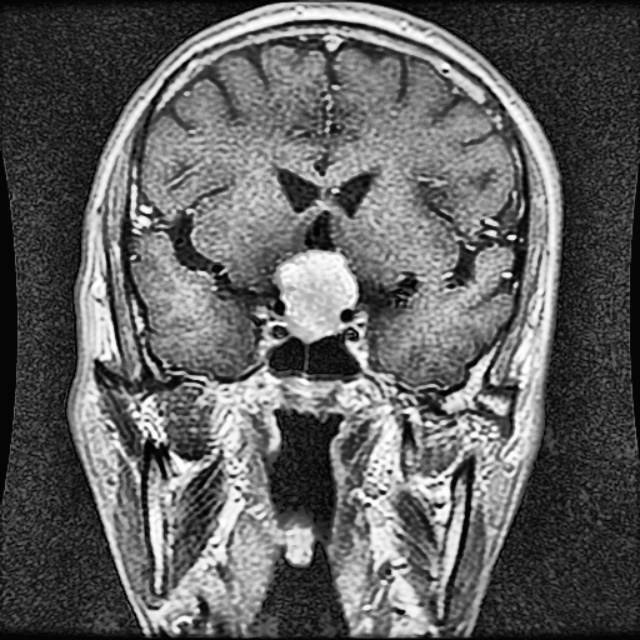Glioma: (274, 249, 355, 339)
